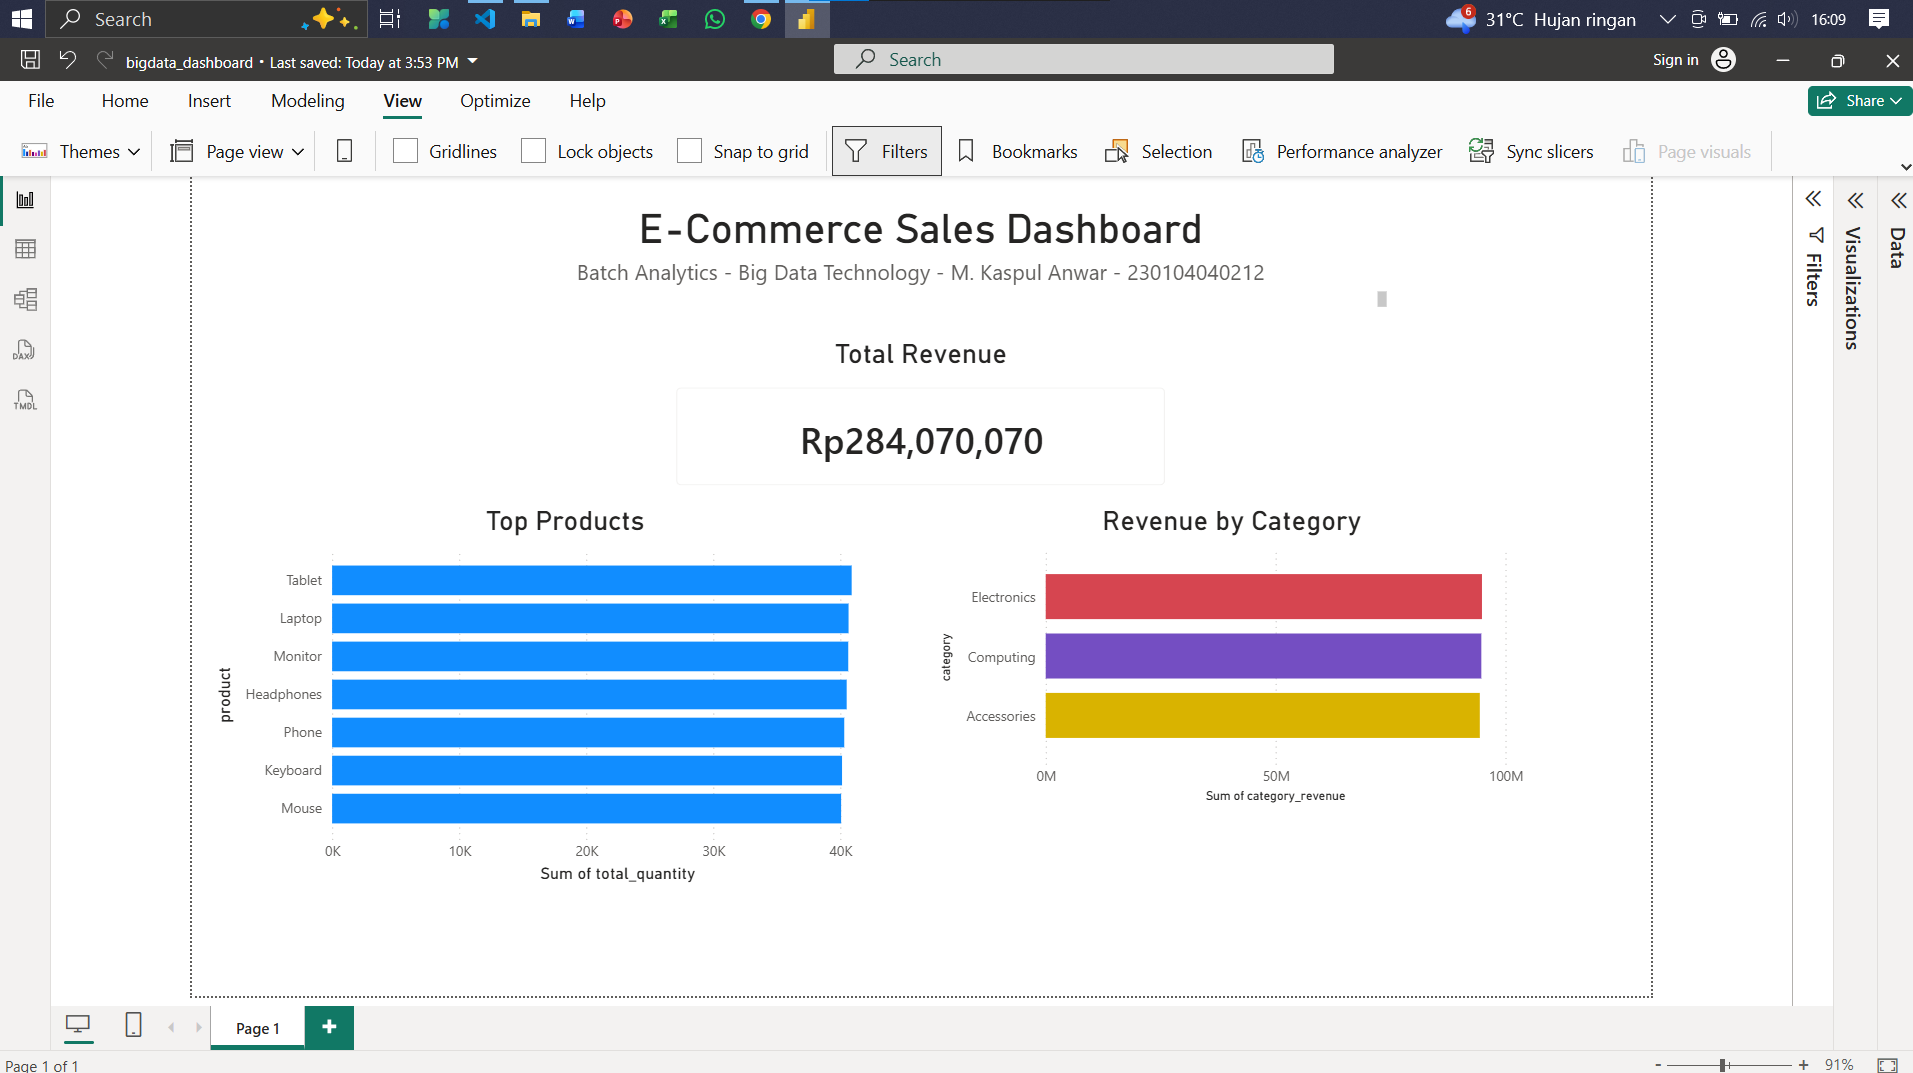

What the dashboard file says about the page in this screenshot:
{"tool":"powerbi","page":{"name":"Page 1","canvas":[1280,720],"ordinal":0},"visuals":[{"type":"cardVisual","title":"Total Revenue","fields":{"Data":["Sum(part-00000-6938e062-fdd7-4a52-be1a-2da4f8bd235a-c000.total_revenue)"]},"box":[407.8,141.1,463.3,147.8],"z":0},{"type":"clusteredBarChart","title":"Top Products","fields":{"Category":["part-00000-f4a0bbfb-dab3-481f-9de3-c5a1863f48c9-c000.product"],"Y":["Sum(part-00000-f4a0bbfb-dab3-481f-9de3-c5a1863f48c9-c000.total_quantity)"]},"box":[15.6,288.9,624.4,336.7],"z":1000},{"type":"clusteredBarChart","title":"Revenue by Category","fields":{"Category":["part-00000-cc85ffbc-05dd-46f7-a41e-4db6bb8ea11a-c000.category"],"Y":["Sum(part-00000-cc85ffbc-05dd-46f7-a41e-4db6bb8ea11a-c000.category_revenue)"]},"box":[651.1,288.9,522.2,266.7],"z":2000},{"type":"textbox","title":"E-Commerce Sales Dashboard","box":[214.4,40,826.7,93.3],"z":3000}]}

Visuals, with their boxes on the page's 1280x720 design canvas (x1, y1, x2, y2). These are canvas units, not pixel positions in the 1913x1073 screenshot, which may show the page scaled, cropped or inside an application window:
"Total Revenue" cardVisual: box(408, 141, 871, 289)
"Top Products" clusteredBarChart: box(16, 289, 640, 626)
"Revenue by Category" clusteredBarChart: box(651, 289, 1173, 556)
"E-Commerce Sales Dashboard" textbox: box(214, 40, 1041, 133)
